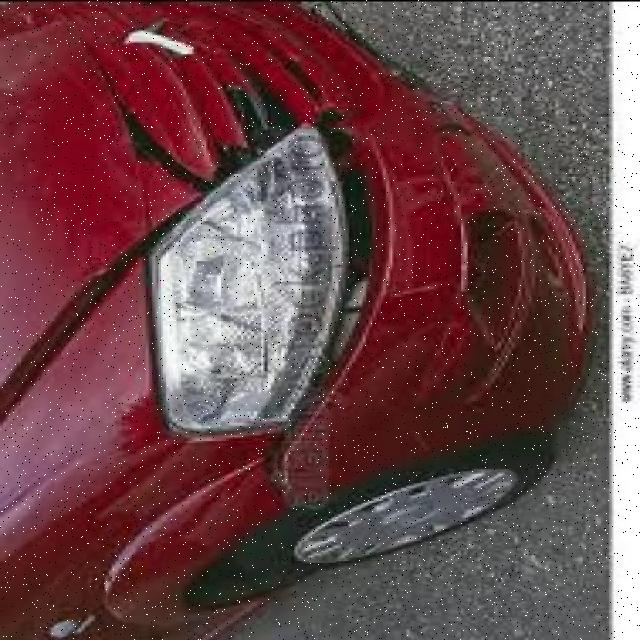damage: (5, 66, 400, 511)
